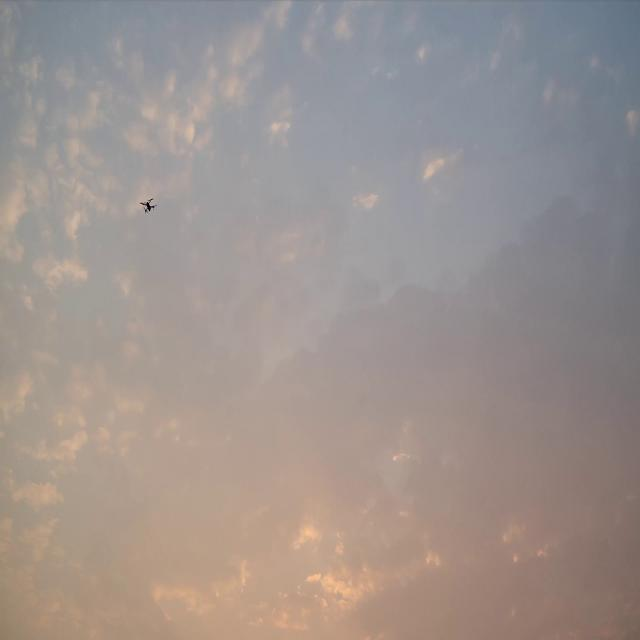UAV: (139, 197, 157, 214)
